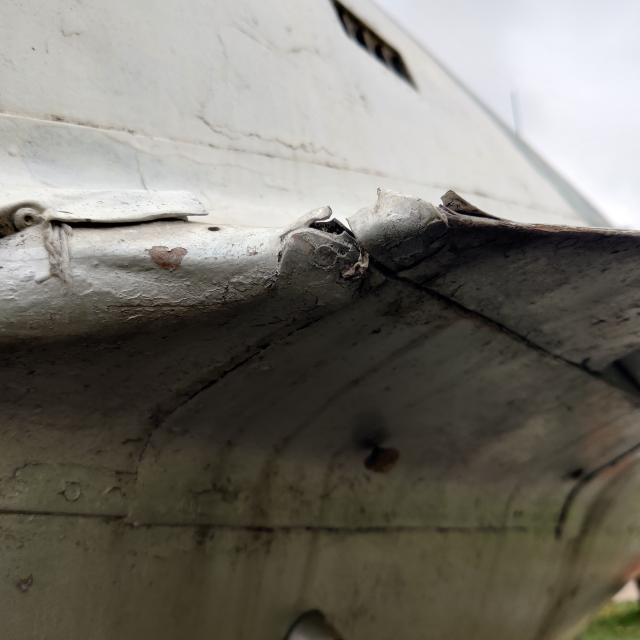crack: (378, 158, 531, 241), (292, 190, 373, 258)
